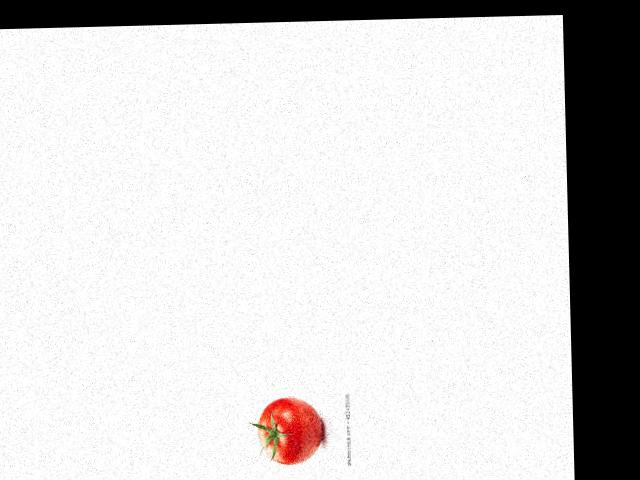tomato: (257, 397, 323, 464)
